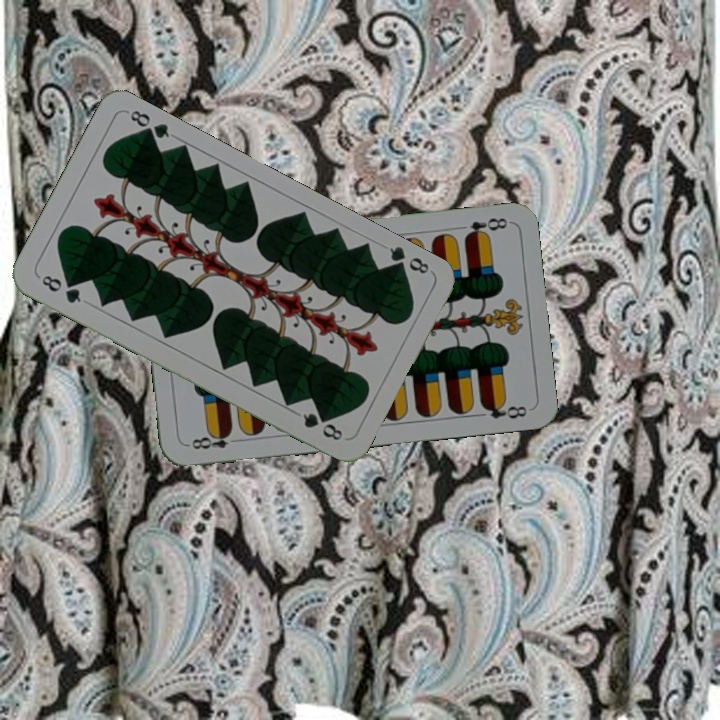E8: (460, 213, 511, 242), (184, 427, 243, 452)
G8: (385, 242, 432, 278), (37, 271, 84, 306)
